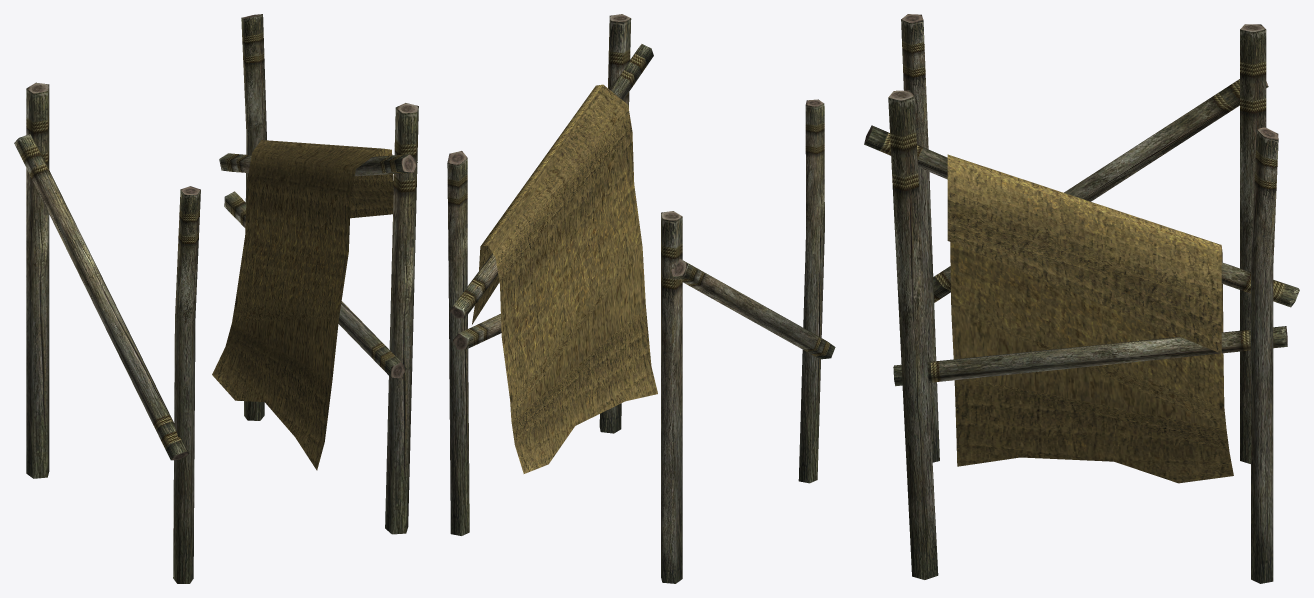
File: thing_hake_03.fbx
3 views of the same model, side by side, from view 1: azimuth 30°, elevation 25°; view 2: azimuth 150°, elevation 25°; view 3: azimuth 270°, elevation 25° (orthographic). The views are drawn at different scales.
Parts seen in each view (by area): view 1: thing_hake_03; view 2: thing_hake_03; view 3: thing_hake_03.
Part boxes in pixels (left/top/right/bottom): thing_hake_03: left=14, top=14, right=418, bottom=583; thing_hake_03: left=447, top=14, right=835, bottom=583; thing_hake_03: left=864, top=14, right=1299, bottom=583.
Size of the model in its own units: 3.05 by 5 by 4.12.
